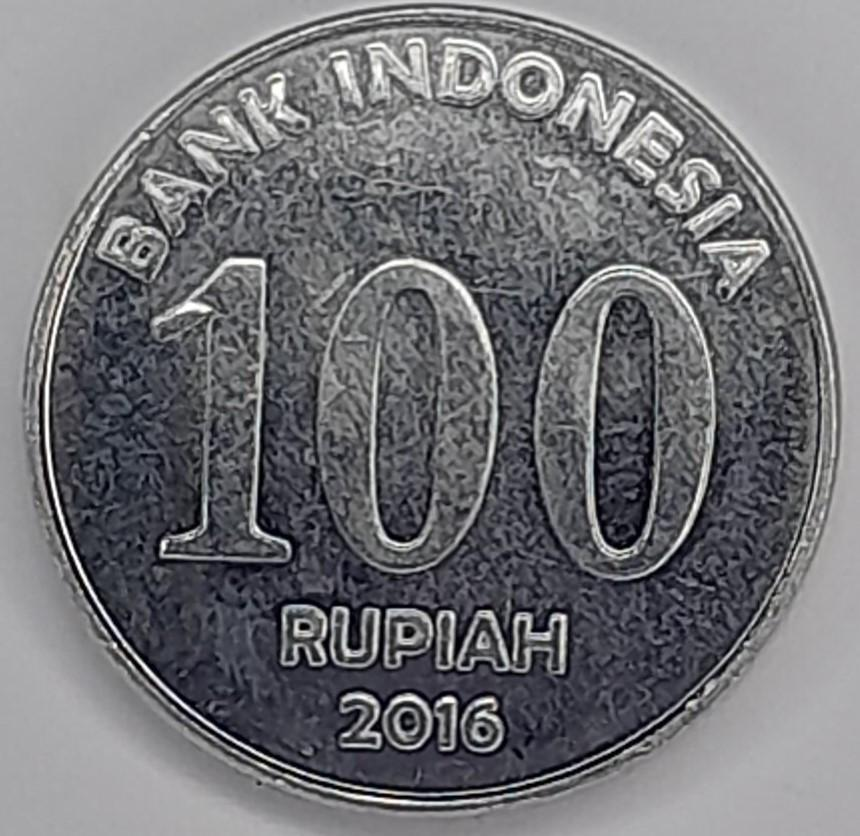coin_100_e2016: (17, 0, 846, 818)
